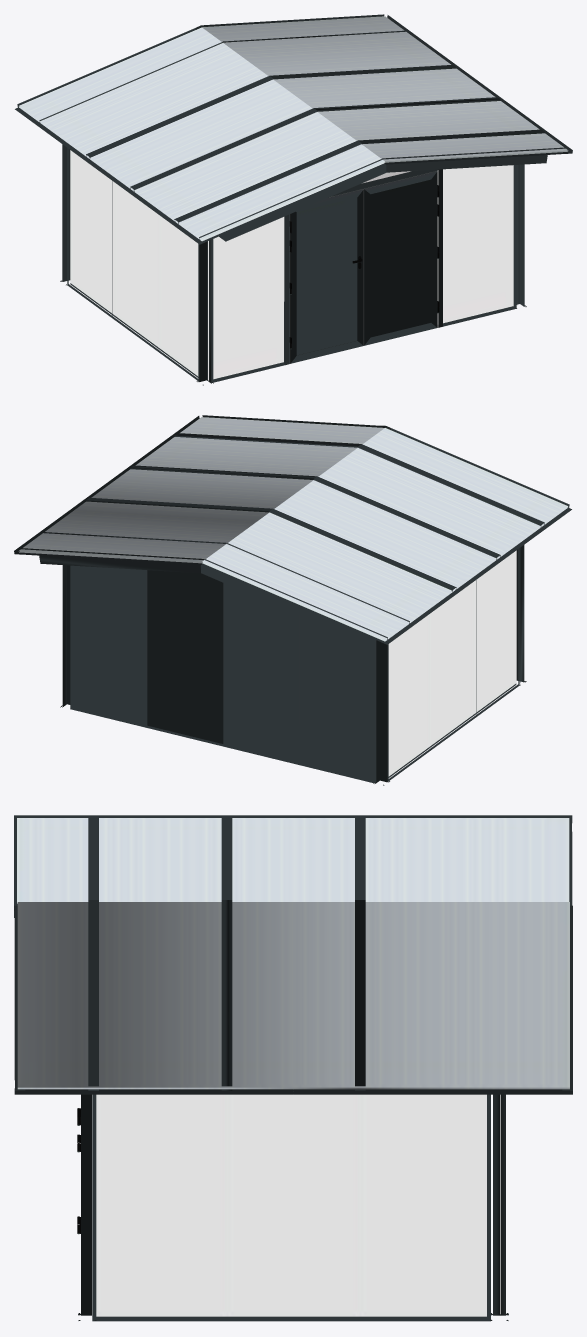
3 renders of one model, top to bottom at view 1: azimuth 30°, elevation 25°; view 2: azimuth 150°, elevation 25°; view 3: azimuth 270°, elevation 25°, orthographic. The views are drawn at different scales.
Visible parts, largest first — view 1: priximbattable_net_abris_de_jardin_640004_abri_de_jardin_orc, folha, folha_2, porta_1; view 2: priximbattable_net_abris_de_jardin_640004_abri_de_jardin_orc; view 3: priximbattable_net_abris_de_jardin_640004_abri_de_jardin_orc.
Boxes of the visible parts, x1=… form: priximbattable_net_abris_de_jardin_640004_abri_de_jardin_orc: x1=15, y1=14, x2=572, y2=385; folha: x1=363, y1=171, x2=439, y2=345; folha_2: x1=289, y1=189, x2=363, y2=363; porta_1: x1=284, y1=169, x2=442, y2=365; priximbattable_net_abris_de_jardin_640004_abri_de_jardin_orc: x1=14, y1=415, x2=571, y2=785; priximbattable_net_abris_de_jardin_640004_abri_de_jardin_orc: x1=14, y1=815, x2=572, y2=1321.
Size of the model in its own units: 489 by 252 by 421.
1 material, 1 textured.
